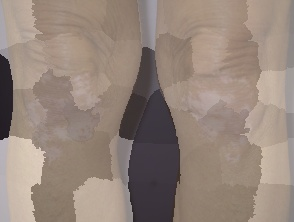vitiligo: (140, 24, 294, 199), (0, 34, 142, 202)
